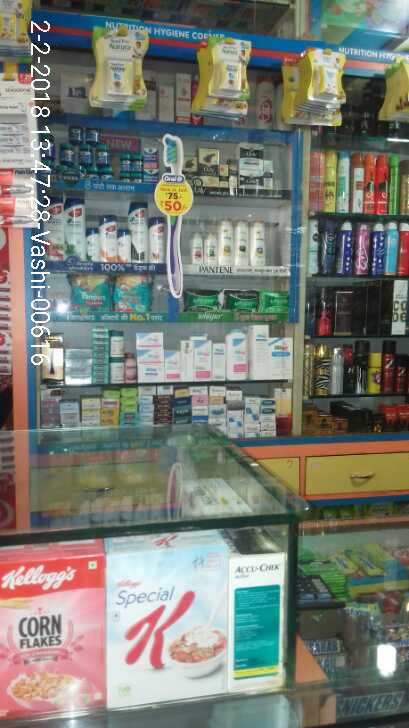beauty: (41, 190, 173, 262), (174, 211, 275, 276), (183, 133, 277, 193)
pharmacy: (40, 124, 165, 177), (182, 288, 288, 322), (113, 270, 157, 319), (66, 273, 111, 313)
